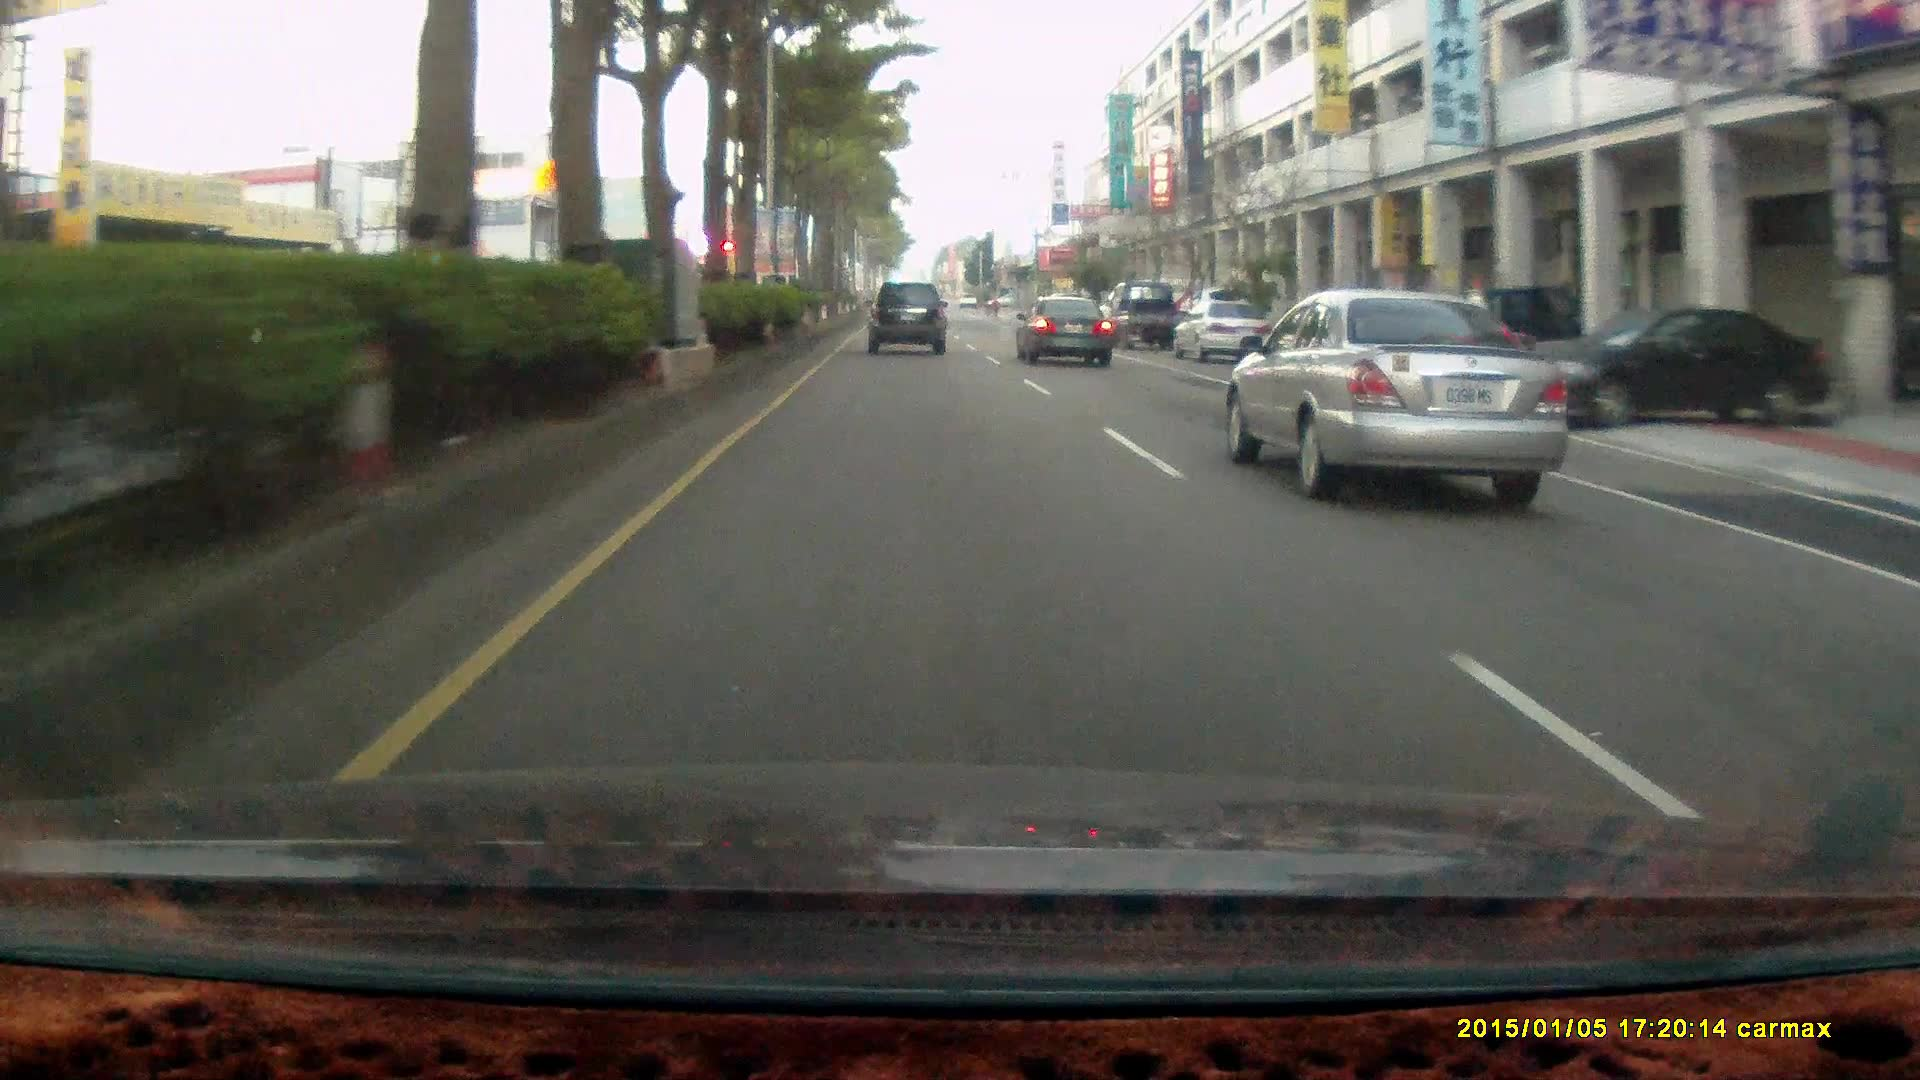vehicle: (1225, 291, 1573, 509), (1520, 302, 1855, 434), (1520, 302, 1830, 433), (1015, 297, 1120, 371), (1014, 294, 1116, 364), (1168, 295, 1274, 361), (1178, 301, 1279, 365), (866, 281, 949, 357), (864, 280, 947, 351), (1102, 280, 1178, 349)
